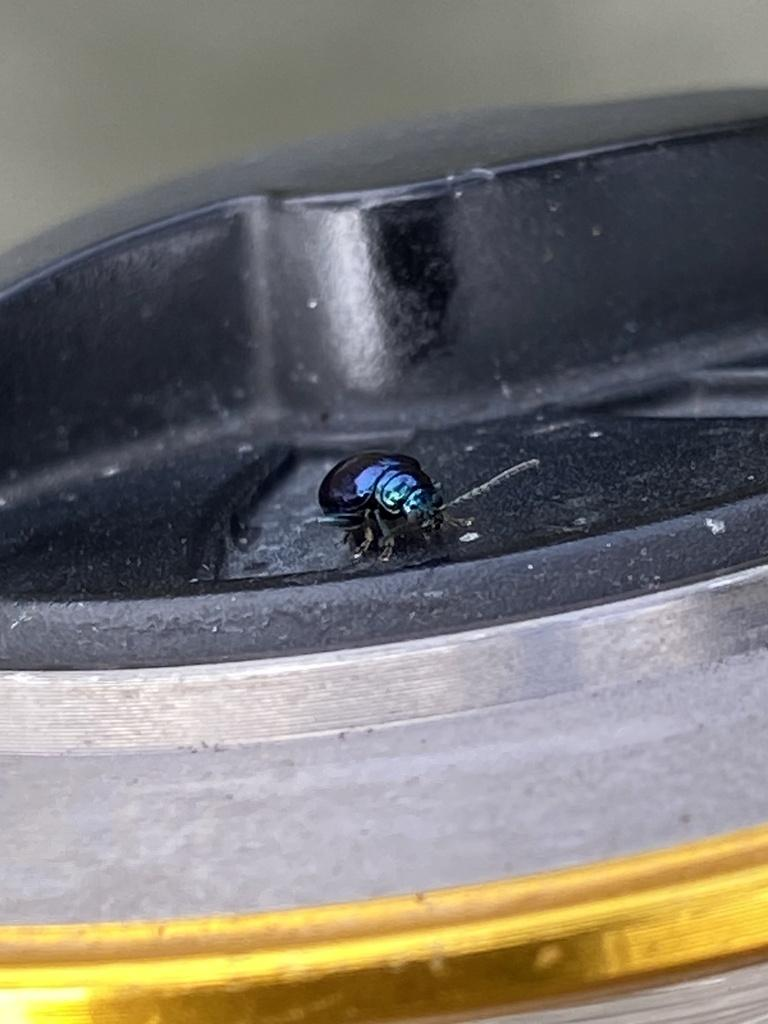flea_beetle: (278, 420, 568, 601)
